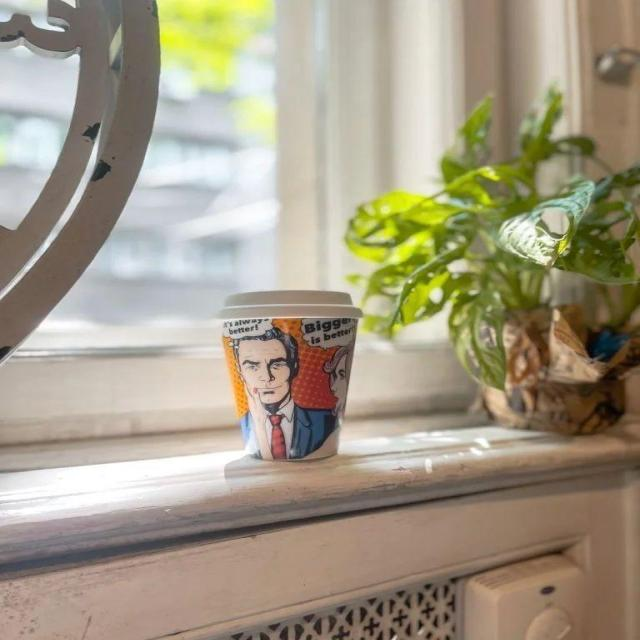cup-disposable: (212, 282, 374, 471)
